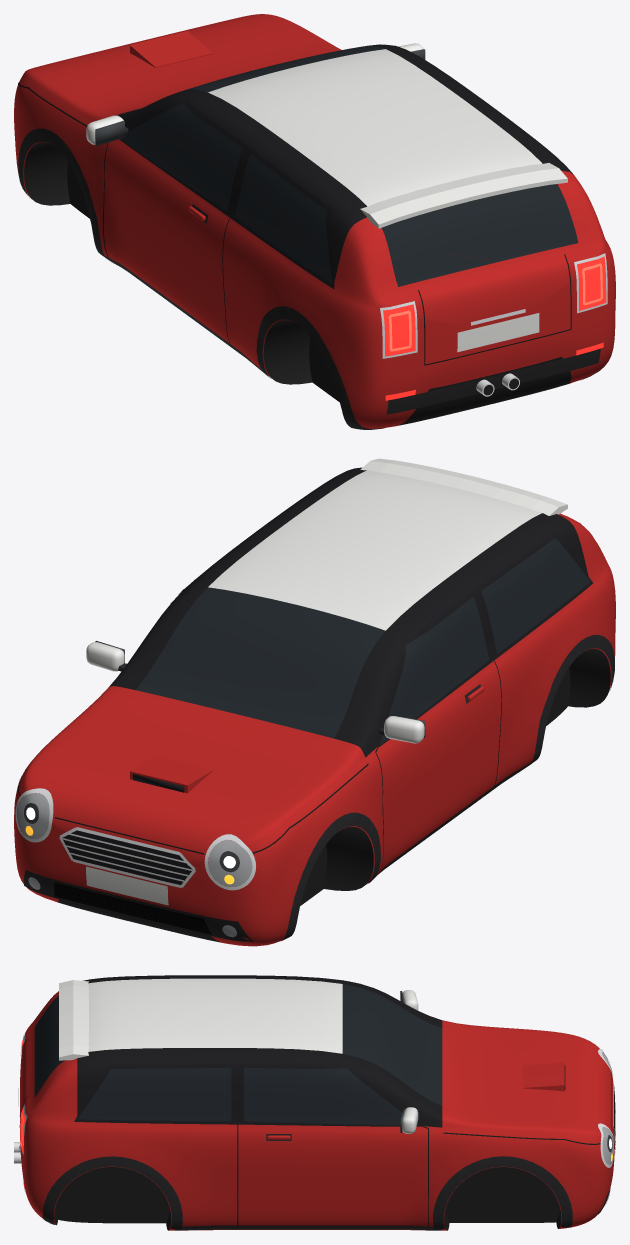
Rendered from hatch_tern_gt.glb.
The picture shows the model from 3 angles, top to bottom: view 1: azimuth 30°, elevation 25°; view 2: azimuth 150°, elevation 25°; view 3: azimuth 270°, elevation 25°; orthographic projection. The views are drawn at different scales.
Visible parts, largest first — view 1: body, details; view 2: body, details; view 3: body, details.
Part boxes in pixels (left/top/right/bottom): body: left=14, top=14, right=615, bottom=428; details: left=18, top=31, right=607, bottom=429; body: left=14, top=467, right=615, bottom=946; details: left=15, top=458, right=614, bottom=941; body: left=20, top=975, right=614, bottom=1230; details: left=14, top=980, right=615, bottom=1230.
Bounding box in the file's own units: 1.97 × 1.24 × 3.81.
Materials: 21 (1 with a texture image).
